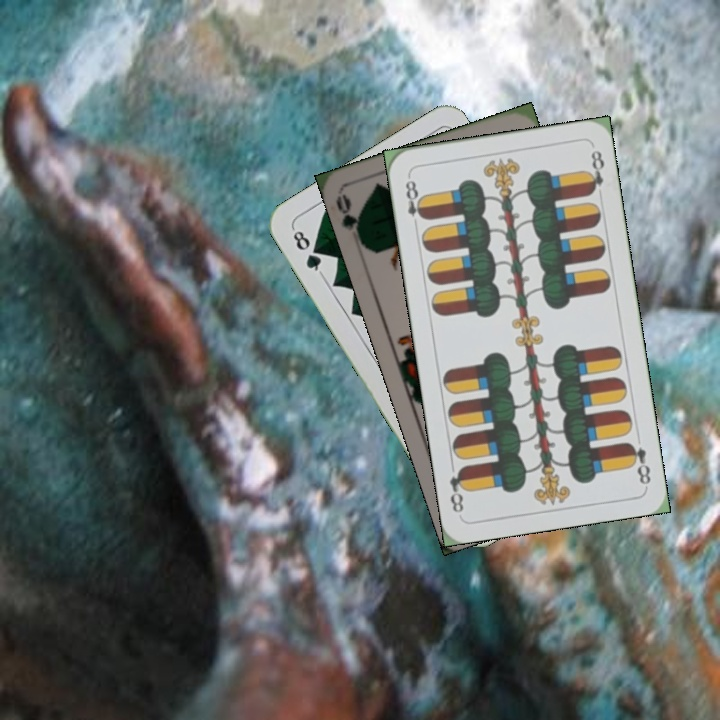E8: (401, 172, 428, 231), (623, 438, 654, 487)
G8: (288, 224, 326, 277)
GO: (331, 192, 368, 248)
